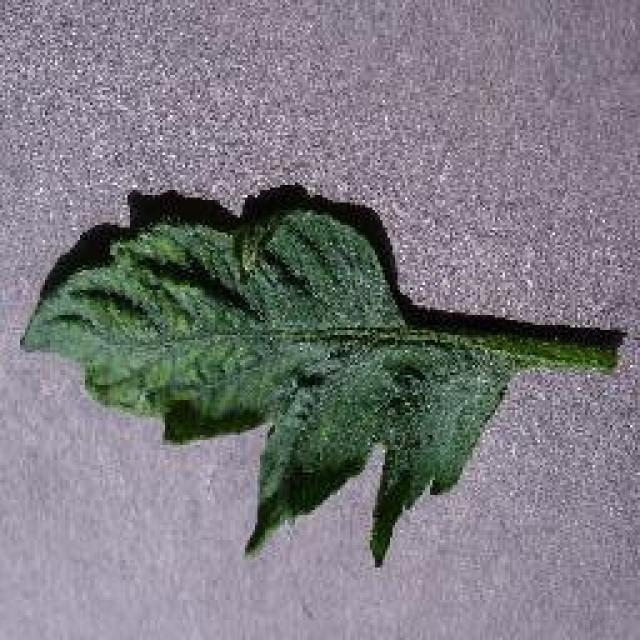Tomato spider mites leaf: (21, 205, 509, 567)
